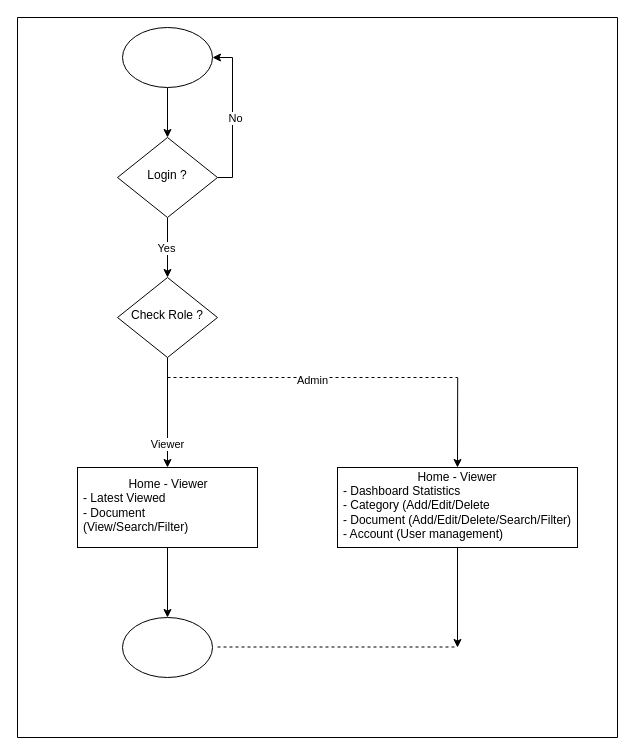
Image size: 635x755. Some labels were removed from this diagram. The shapes that lost their labels are listed below. From the top down, each one's centre as x and y in pixels, then its label:
At pixel 167 57: "Start".
At pixel 167 647: "End".
